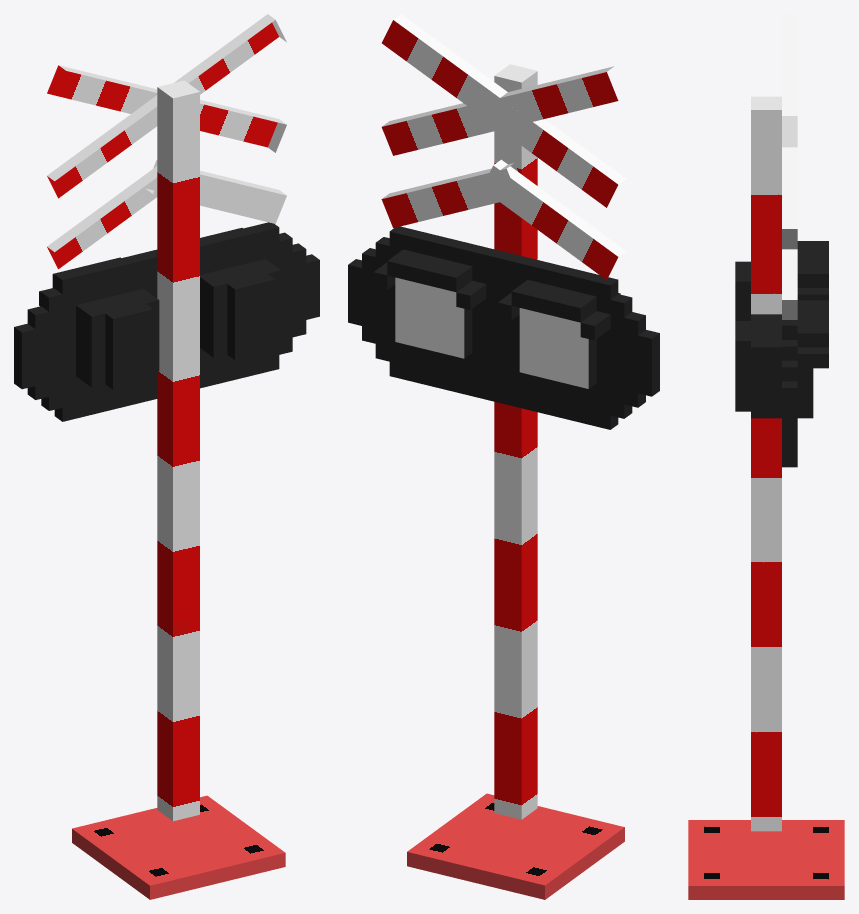
Rendered from polish_crossing_with_cross_2.obj.
3 views of the same model, side by side, from view 1: azimuth 30°, elevation 25°; view 2: azimuth 150°, elevation 25°; view 3: azimuth 270°, elevation 25° (orthographic). The views are drawn at different scales.
Visible parts, largest first — view 1: pole, base, shield, cross_big_right, cross_big_left, light_chamber_right_small, light_chamber_left_small, light_chamber_left, light_chamber_right, cross_small_right, cross_small_left, cube.003 (+5 smaller); view 2: pole, shield, base, cross_big_right, cross_big_left, cross_small_right, light_left, light_right, cross_small_left, top_cover_left, top_cover_right, cube.003 (+7 smaller); view 3: pole, base, cross_big_left, light_chamber_right, top_cover_right, top_cover_left, light_chamber_right_small, cross_small_left, cube.002, light_chamber_left_small, light_left, cube.007 (+5 smaller).
Part boxes in pixels (left/top/right/bottom): pole: left=157, top=80, right=199, bottom=821; base: left=72, top=795, right=285, bottom=899; shield: left=54, top=222, right=279, bottom=421; cross_big_right: left=47, top=14, right=286, bottom=198; cross_big_left: left=47, top=65, right=286, bottom=152; light_chamber_right_small: left=227, top=274, right=275, bottom=359; light_chamber_left_small: left=105, top=303, right=153, bottom=389; light_chamber_left: left=76, top=288, right=159, bottom=387; light_chamber_right: left=200, top=259, right=281, bottom=357; cross_small_right: left=47, top=166, right=157, bottom=269; cross_small_left: left=145, top=160, right=286, bottom=223; cube.003: left=41, top=288, right=62, bottom=410; pole: left=494, top=64, right=537, bottom=819; shield: left=389, top=226, right=618, bottom=429; base: left=407, top=793, right=624, bottom=899; cross_big_right: left=382, top=14, right=625, bottom=207; cross_big_left: left=381, top=66, right=618, bottom=155; cross_small_right: left=481, top=159, right=625, bottom=279; light_left: left=395, top=277, right=472, bottom=358; light_right: left=519, top=308, right=596, bottom=388; cross_small_left: left=381, top=163, right=517, bottom=227; top_cover_left: left=511, top=279, right=596, bottom=322; top_cover_right: left=387, top=249, right=472, bottom=292; cube.003: left=610, top=294, right=632, bottom=418; pole: left=751, top=96, right=781, bottom=831; base: left=688, top=820, right=844, bottom=899; cross_big_left: left=782, top=14, right=797, bottom=249; light_chamber_right: left=751, top=314, right=781, bottom=418; top_cover_right: left=797, top=300, right=828, bottom=347; top_cover_left: left=797, top=241, right=828, bottom=287; light_chamber_right_small: left=735, top=321, right=750, bottom=411; cross_small_left: left=782, top=249, right=797, bottom=319; cube.002: left=782, top=381, right=797, bottom=444; light_chamber_left_small: left=735, top=261, right=750, bottom=320; light_left: left=797, top=368, right=813, bottom=418; cube.007: left=797, top=347, right=828, bottom=368.
Bounding box in the file's own units: 1.38 × 3.54 × 0.625.
